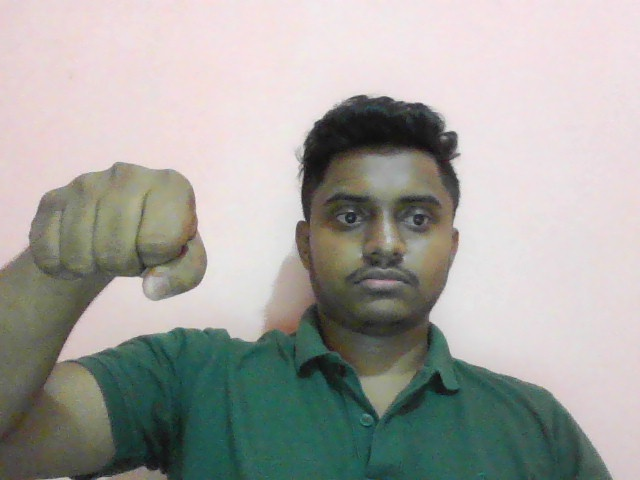Yes: (20, 154, 221, 305)
